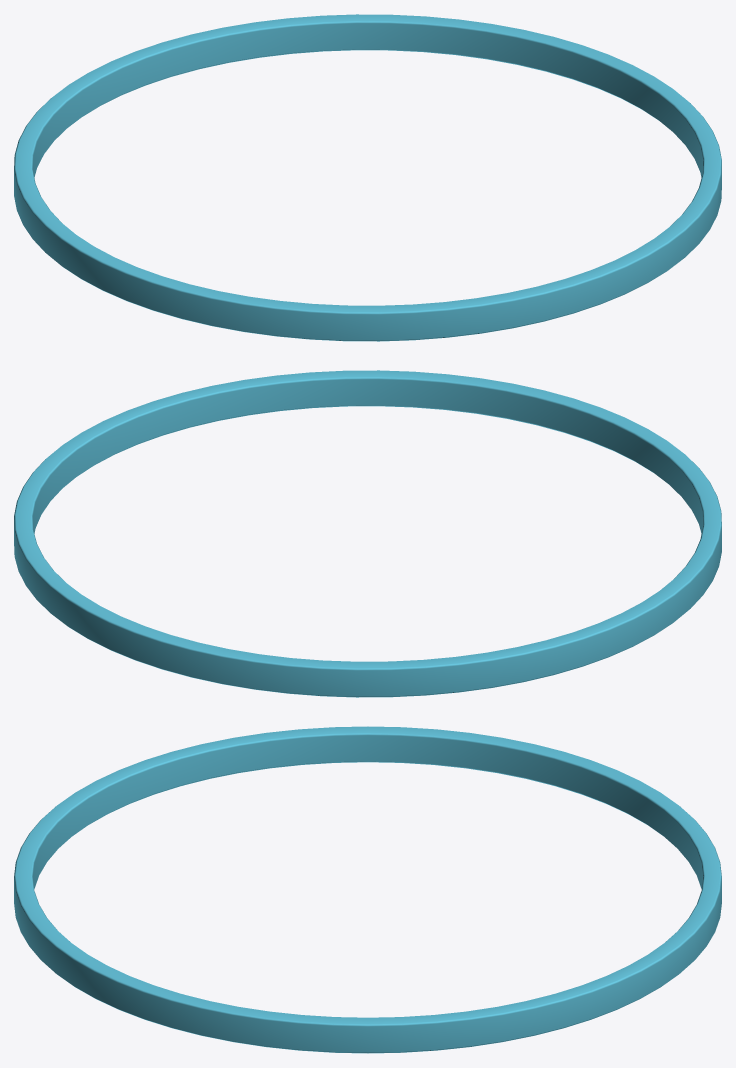
3 views of the same model, one above another, from view 1: azimuth 30°, elevation 25°; view 2: azimuth 150°, elevation 25°; view 3: azimuth 270°, elevation 25° (orthographic).
Parts seen in each view (by area): view 1: seal_body; view 2: seal_body; view 3: seal_body.
Part boxes in pixels (box(x1,y1,x2,y2)): seal_body: box(14, 14, 721, 341); seal_body: box(14, 370, 721, 697); seal_body: box(14, 726, 721, 1053).
Bounding box in the file's own units: 0.1743 × 0.008 × 0.1743.
